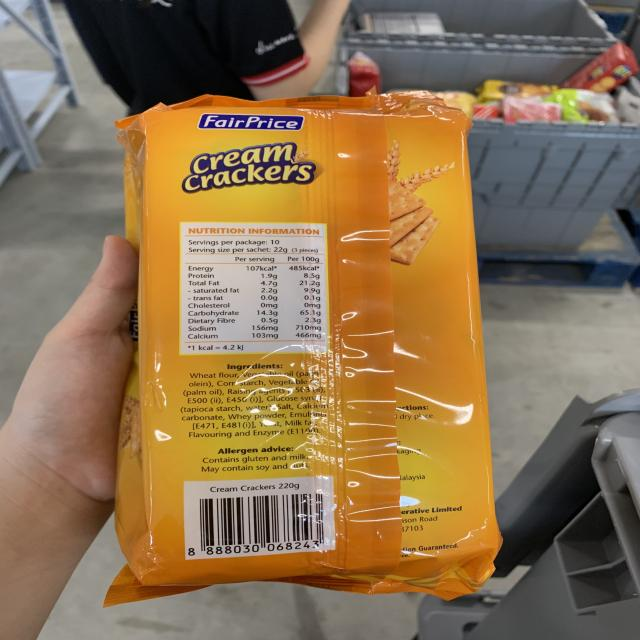object_name: (140, 114, 487, 587)
